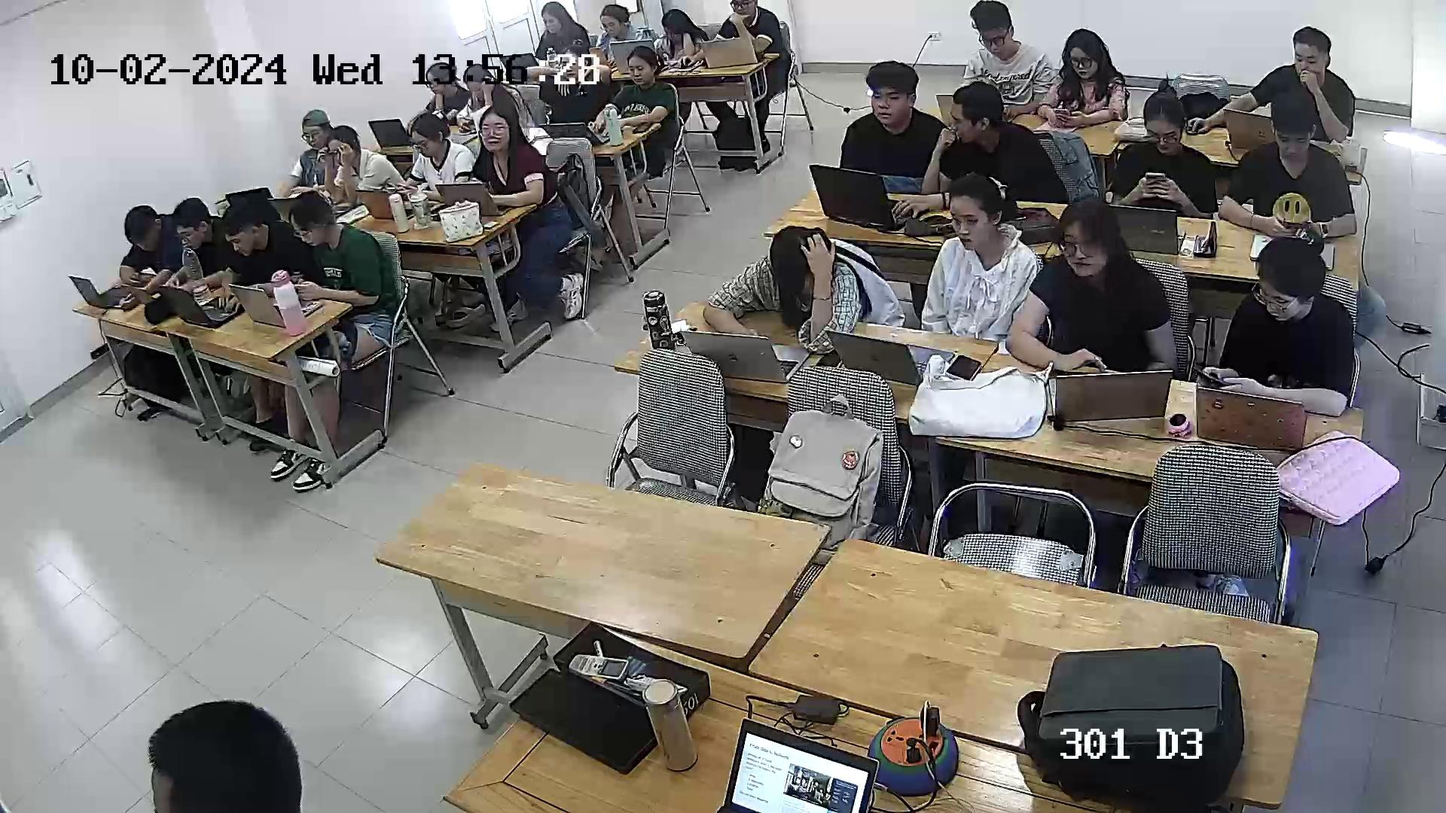Bend Over The Desk: (728, 230, 861, 357)
Look Around: (936, 79, 997, 161)
phone: (1138, 168, 1174, 202), (1190, 359, 1225, 388), (1049, 101, 1079, 126), (1282, 214, 1312, 235), (125, 272, 145, 288)
